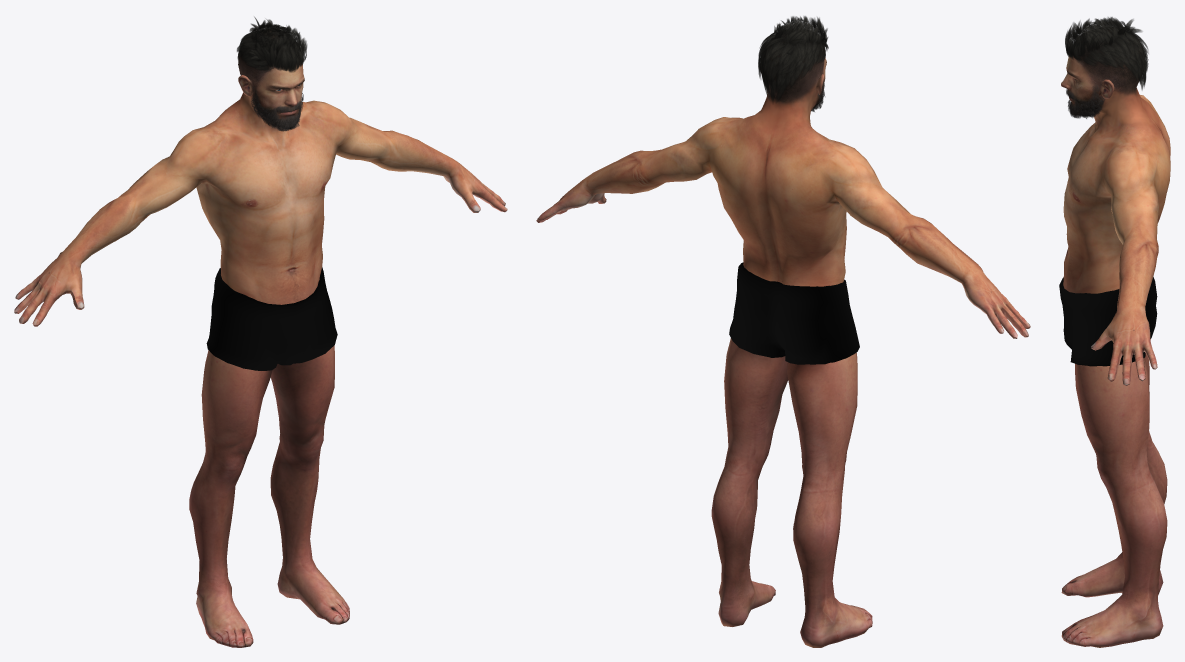
Rendered from man_base_mesh.glb.
3 views of the same model, side by side, from view 1: azimuth 30°, elevation 25°; view 2: azimuth 150°, elevation 25°; view 3: azimuth 270°, elevation 25° (orthographic).
Parts seen in each view (by area): view 1: Object_4, Object_2, Object_9, Object_5, Object_8, Object_10; view 2: Object_4, Object_2, Object_6, Object_7, Object_10; view 3: Object_4, Object_2, Object_7, Object_11, Object_6, Object_5, Object_10, Object_8, Object_9, Object_3.
Boxes of the visible parts, left/top/right/bottom form: Object_4: left=14, top=28, right=507, bottom=647; Object_2: left=206, top=267, right=337, bottom=370; Object_9: left=250, top=24, right=307, bottom=71; Object_5: left=251, top=86, right=303, bottom=131; Object_8: left=249, top=25, right=303, bottom=70; Object_10: left=240, top=17, right=302, bottom=65; Object_4: left=536, top=30, right=1030, bottom=647; Object_2: left=729, top=262, right=859, bottom=364; Object_6: left=758, top=33, right=828, bottom=102; Object_7: left=758, top=18, right=824, bottom=102; Object_10: left=759, top=18, right=822, bottom=64; Object_4: left=1061, top=28, right=1170, bottom=647; Object_2: left=1059, top=277, right=1157, bottom=366; Object_7: left=1065, top=20, right=1148, bottom=73; Object_11: left=1067, top=21, right=1130, bottom=67; Object_6: left=1087, top=31, right=1148, bottom=90; Object_5: left=1066, top=85, right=1105, bottom=118; Object_10: left=1069, top=17, right=1139, bottom=59; Object_8: left=1066, top=18, right=1112, bottom=59; Object_9: left=1066, top=18, right=1125, bottom=60; Object_3: left=1074, top=78, right=1155, bottom=384.
Bounding box in the file's own units: 160 × 189 × 31.78.
Materials: 4 (3 with a texture image).
